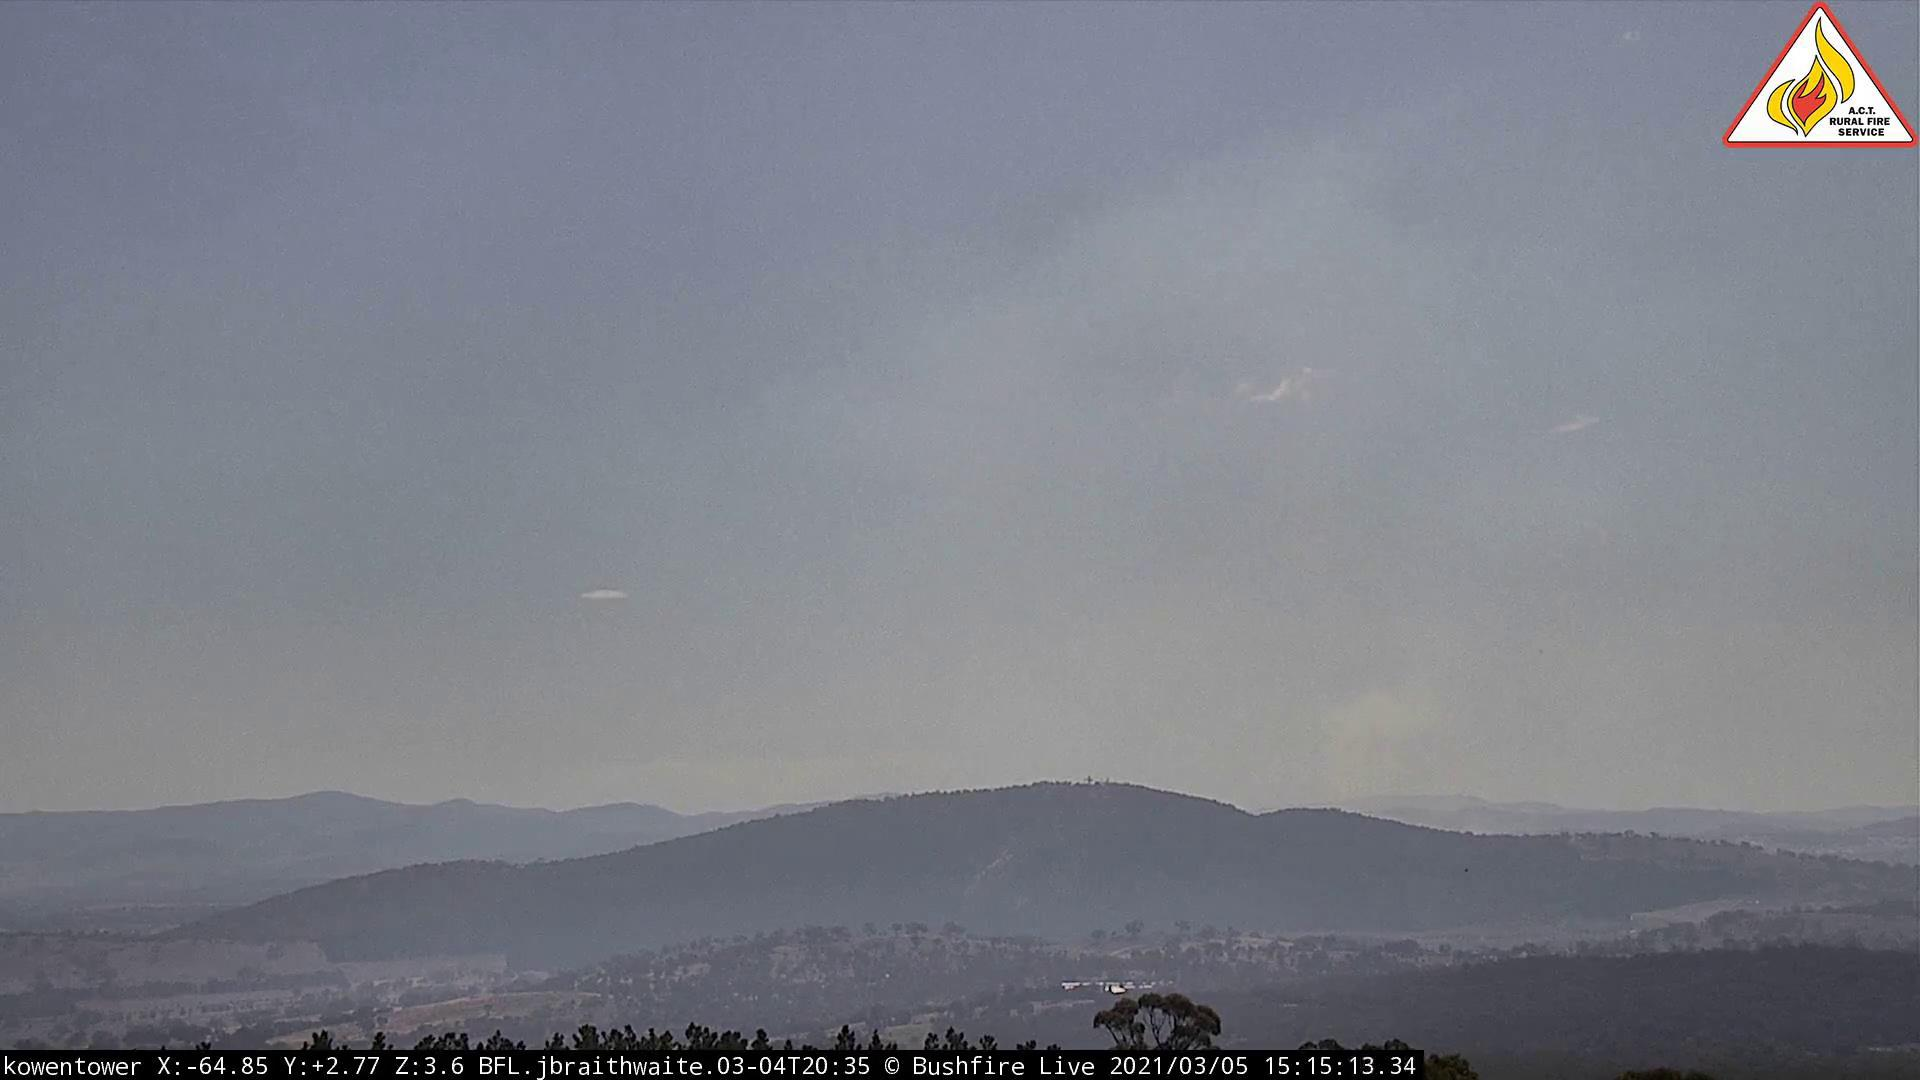Smoke: (953, 353, 1465, 828)
